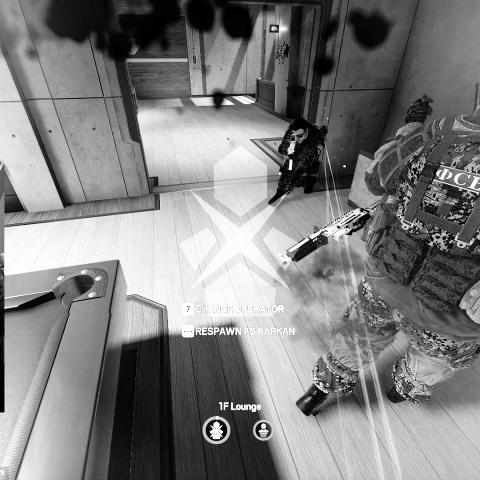Character: (296, 88, 480, 416), (268, 117, 330, 204)
Head: (290, 117, 310, 145)
